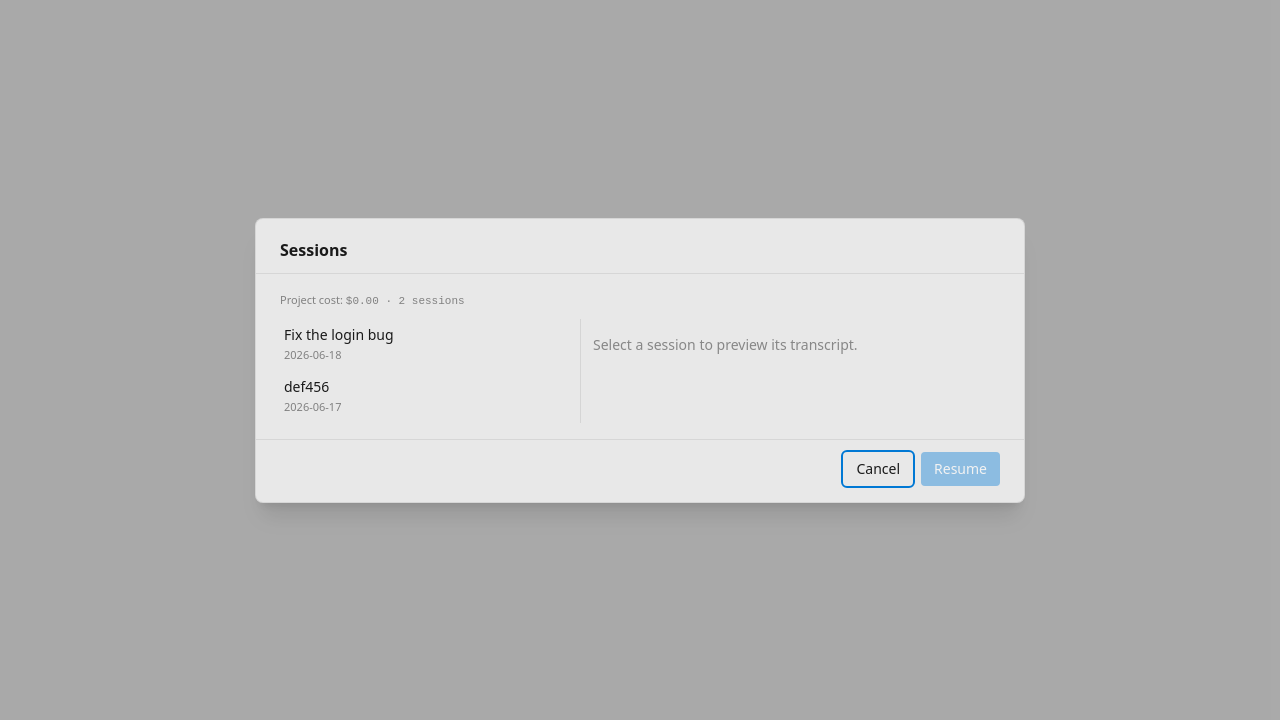
Test: ResumeSessionDialog › loads transcript preview when a session is selected
Click the text "Fix the login bug" at [339, 334], box [284,324,394,344]
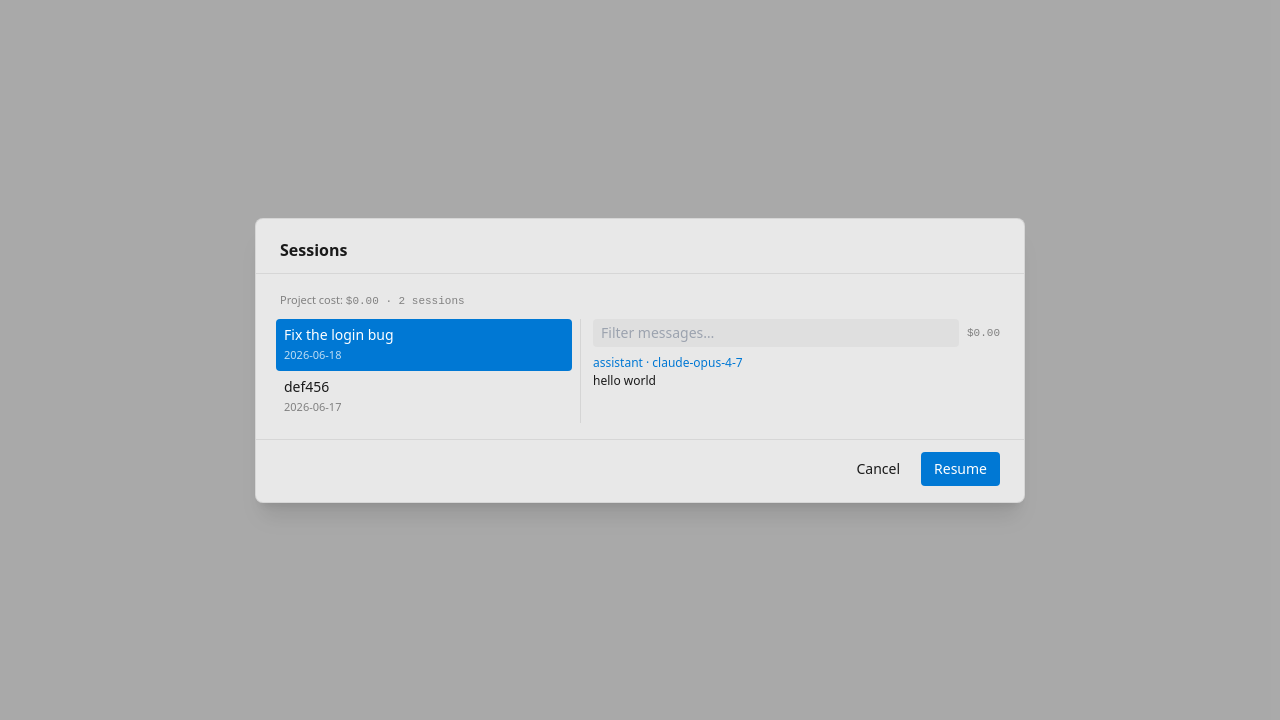
Now the text "hello world" is shown, box [593,372,656,388]
